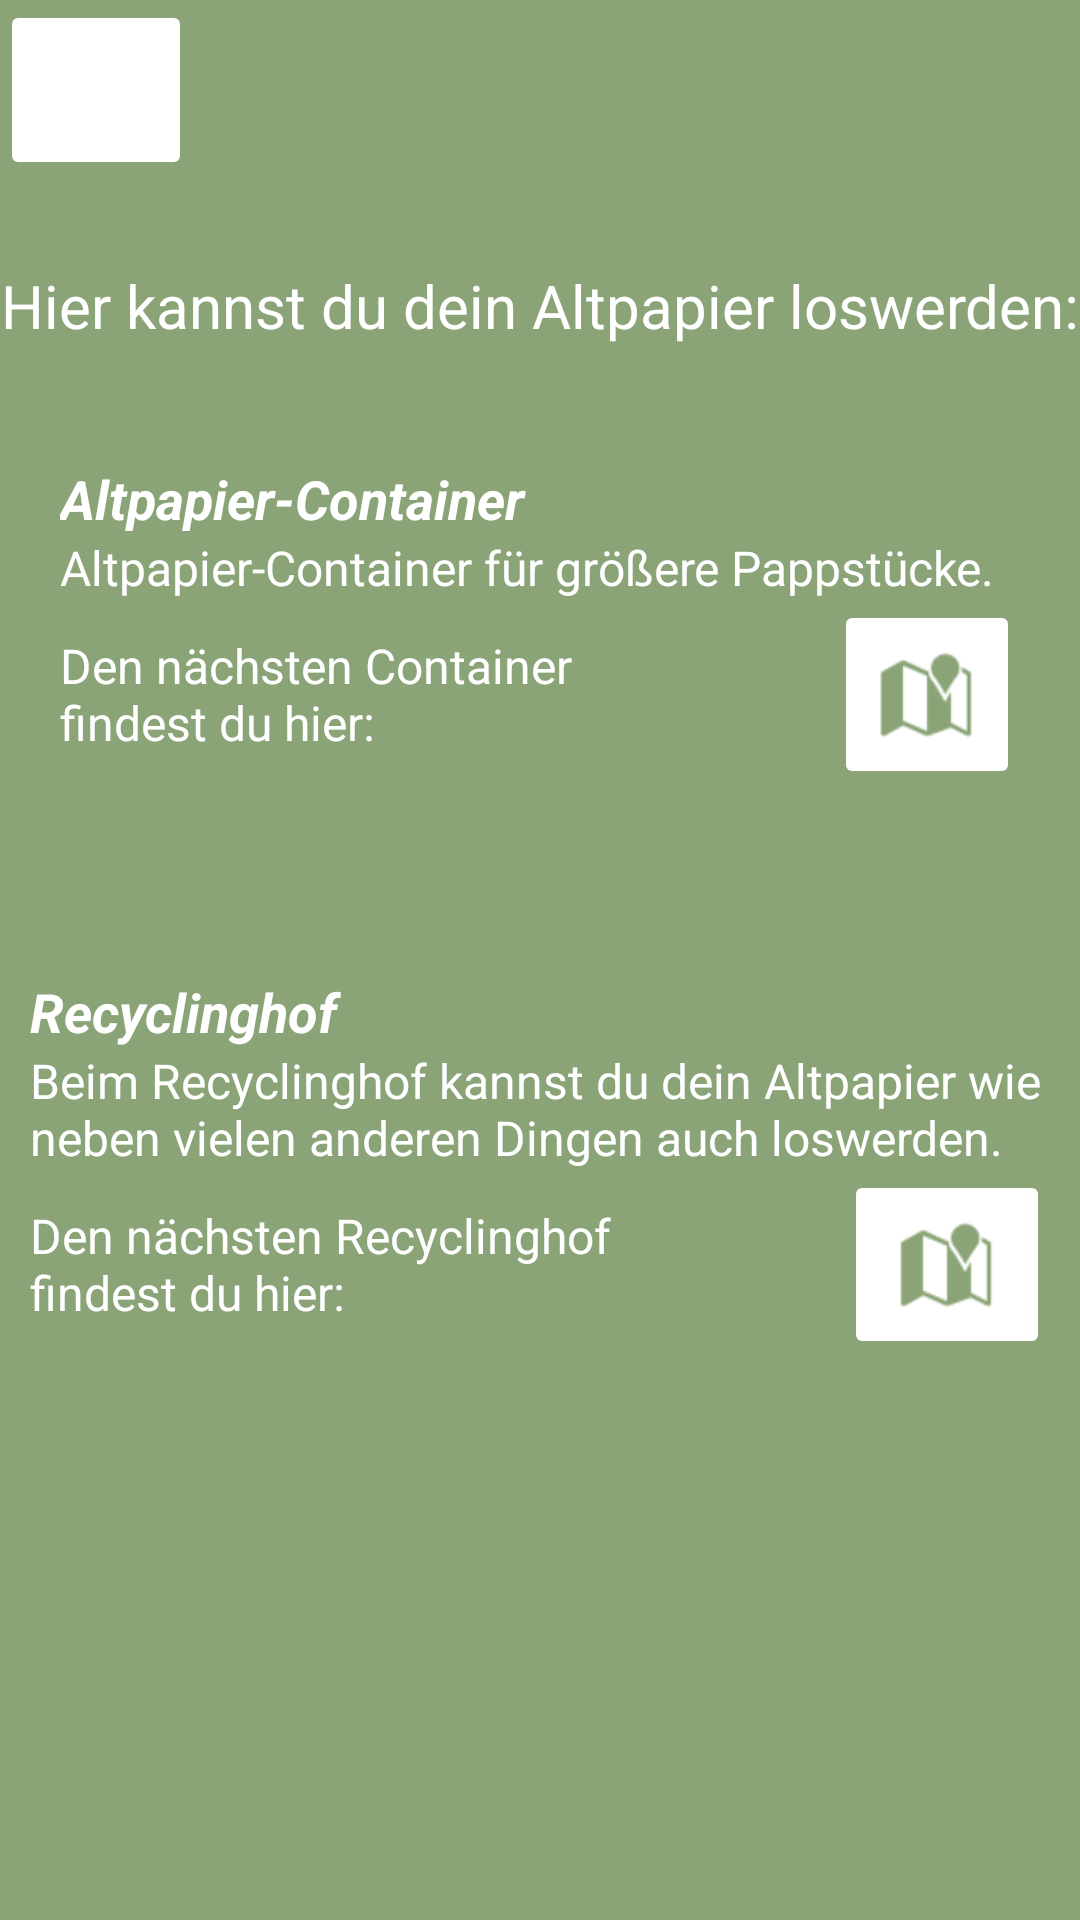

Icon bounding boxes for this 1080px x 1920px phone screenshot, format [left=x1, top=y1, right=x2, bottom=y2]:
map: [left=846, top=618, right=1008, bottom=771], [left=856, top=1188, right=1038, bottom=1341]
